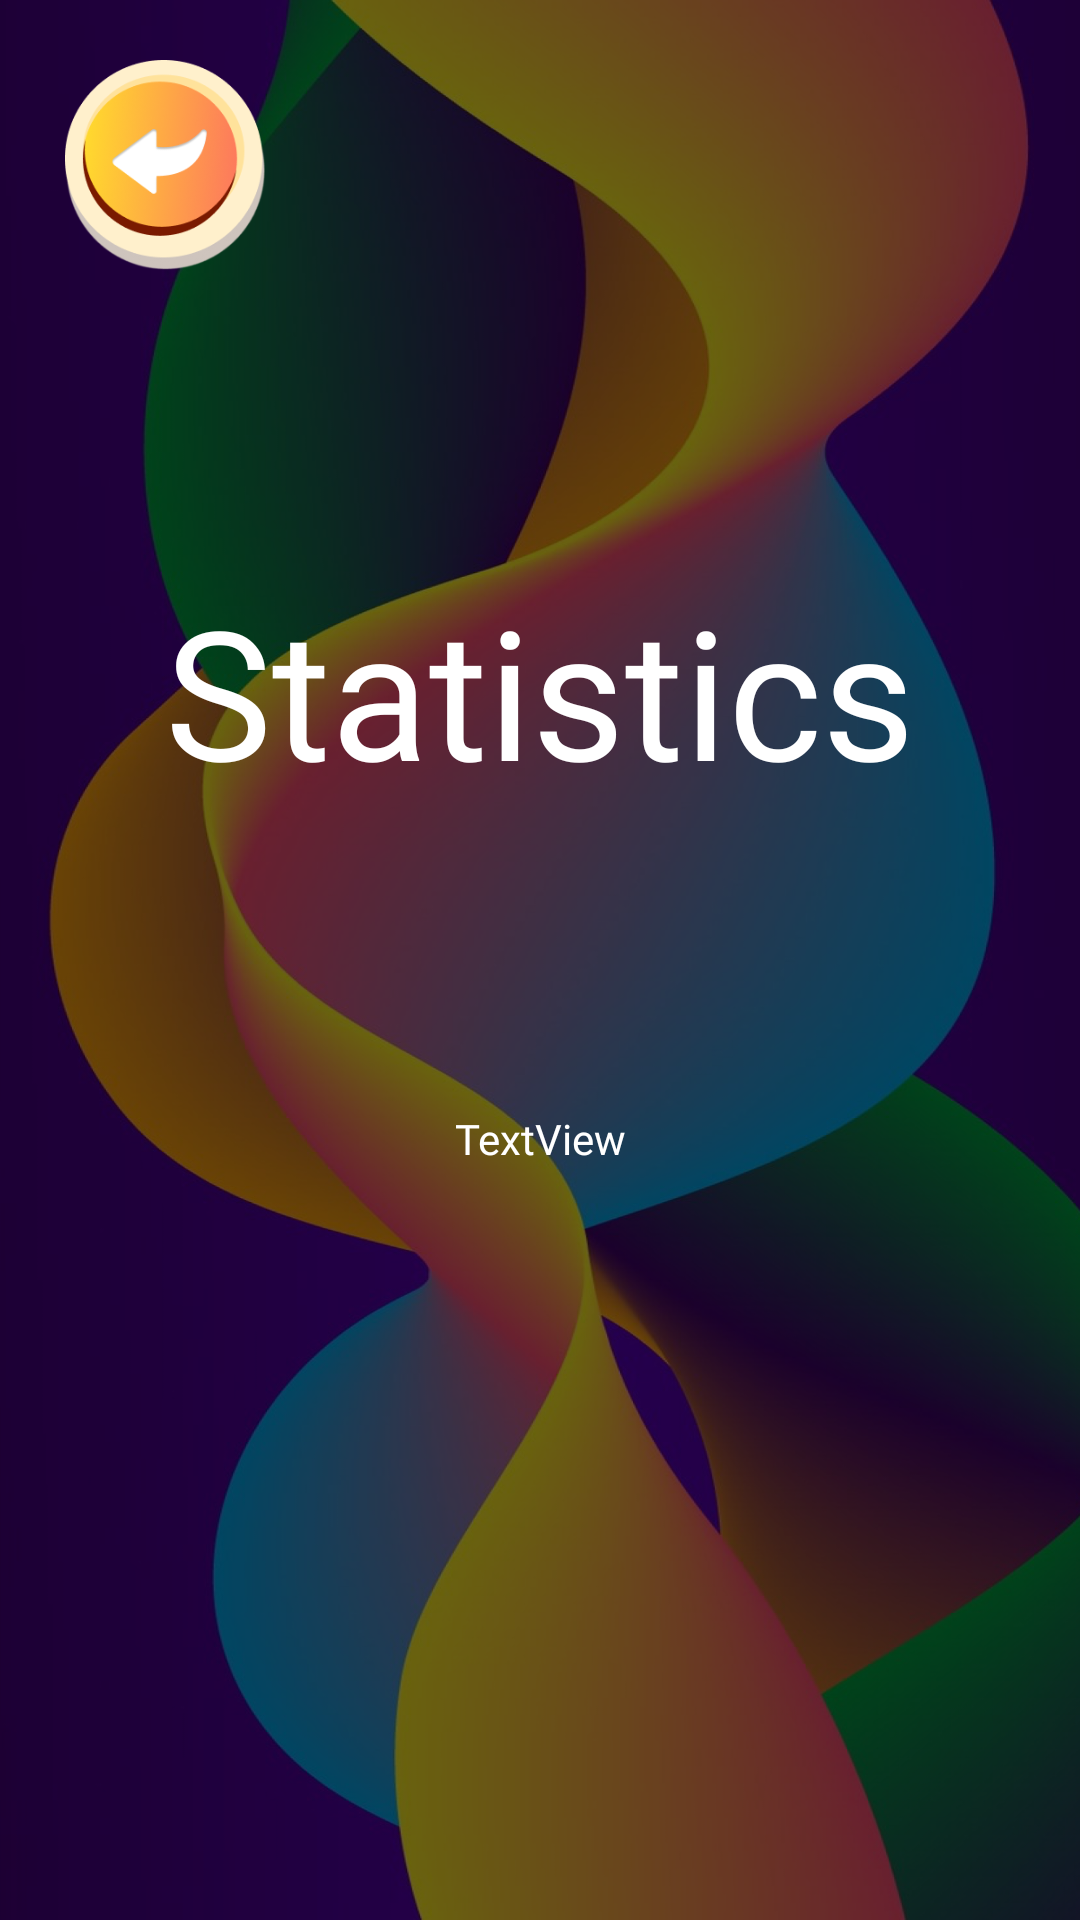

Screen size 1080x1920. Icon name, then its center in pixels as (x=x, y=y):
back: (x=167, y=165)
